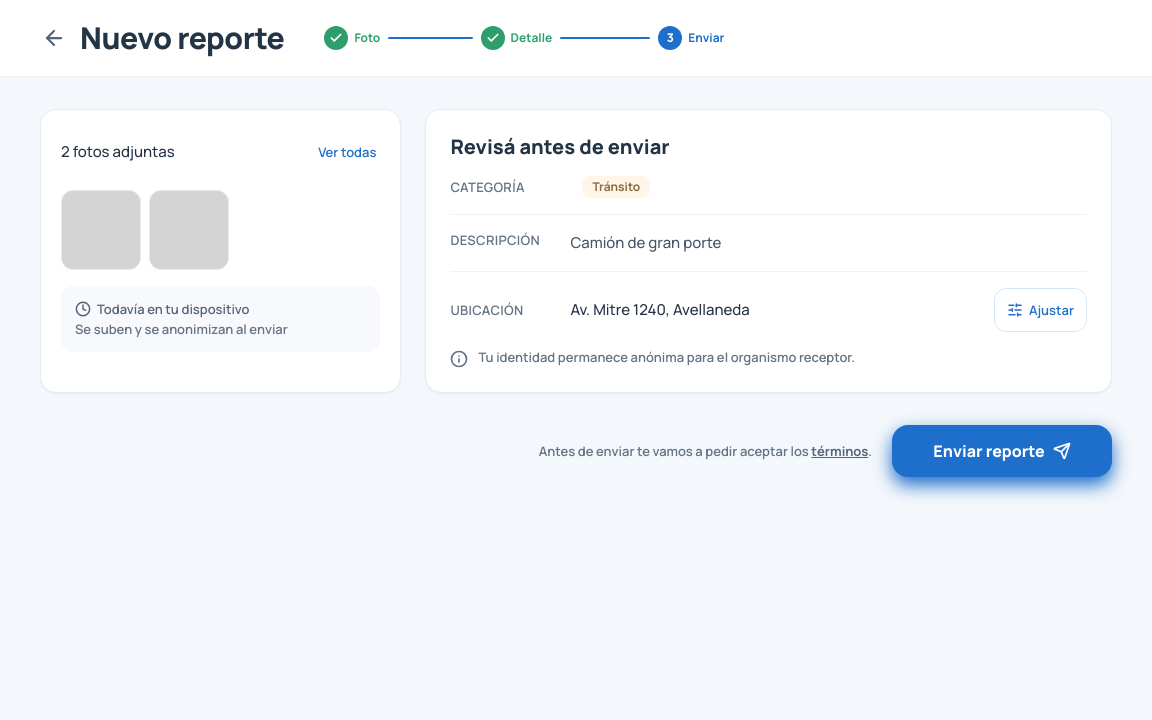
it: REP-2200: ReportReviewStep y Modal "Antes de enviar" (Journey v2) › UT-RV-02: Si el usuario NO aceptó términos previamente, hacer clic en "Enviar reporte" abre el modal "Antes de enviar"
Click the button "Enviar reporte": (1002, 451) left=892, top=425, right=1112, bottom=477
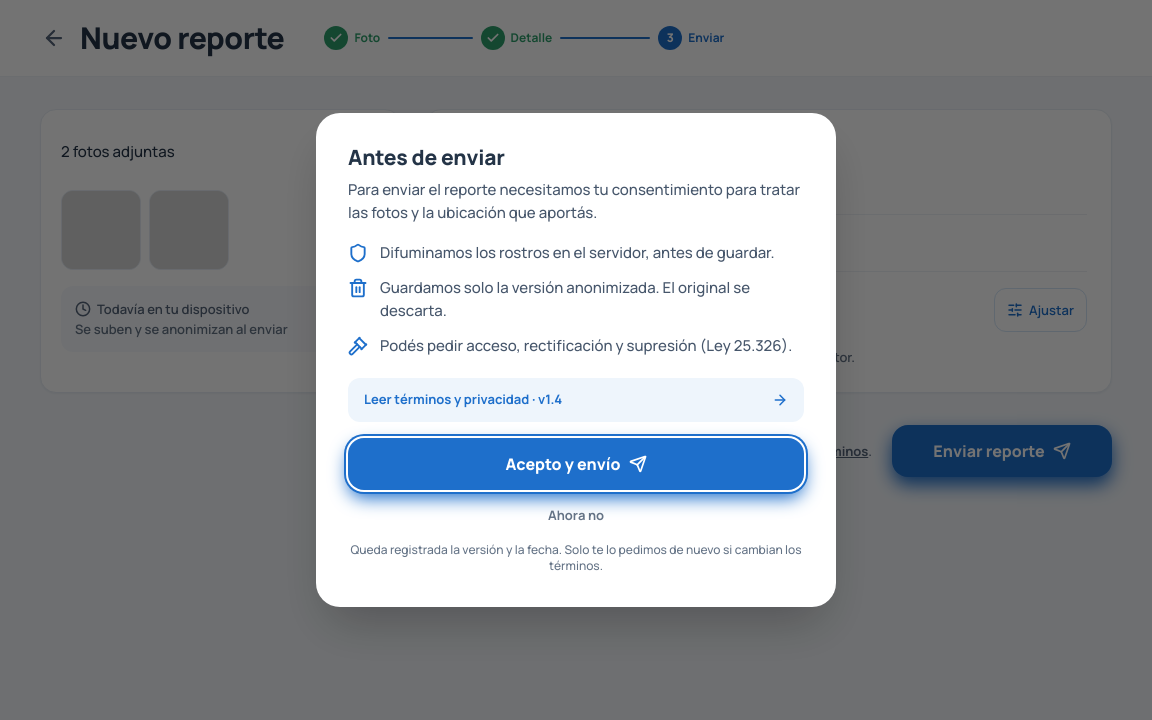
Expected: the heading "Antes de enviar" is shown, left=348, top=143, right=505, bottom=171
Expected: the text "Difuminamos los rostros en el servidor, antes de guardar." is shown, left=380, top=240, right=774, bottom=264
Expected: the button "Acepto y envío" is shown, left=348, top=438, right=804, bottom=490
